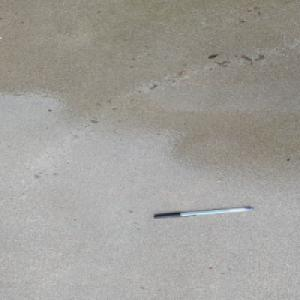Pen: (151, 206, 253, 219)
